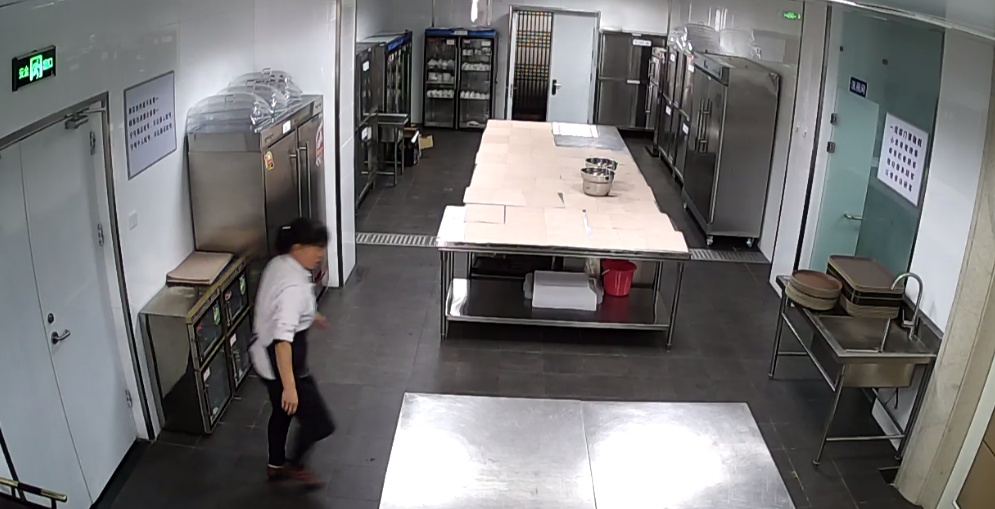head: (276, 206, 335, 272)
